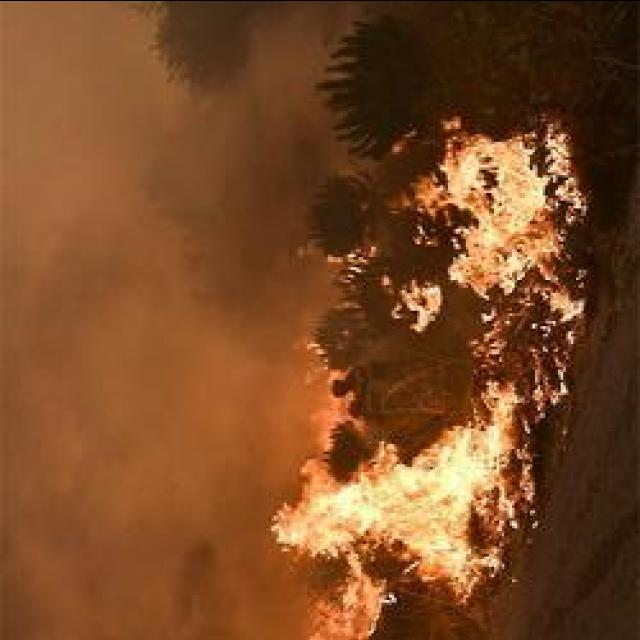fire: (292, 424, 494, 570), (440, 130, 582, 290), (409, 274, 448, 330)
smoke: (8, 487, 124, 640), (241, 17, 322, 190), (22, 255, 142, 342), (153, 529, 241, 640)
